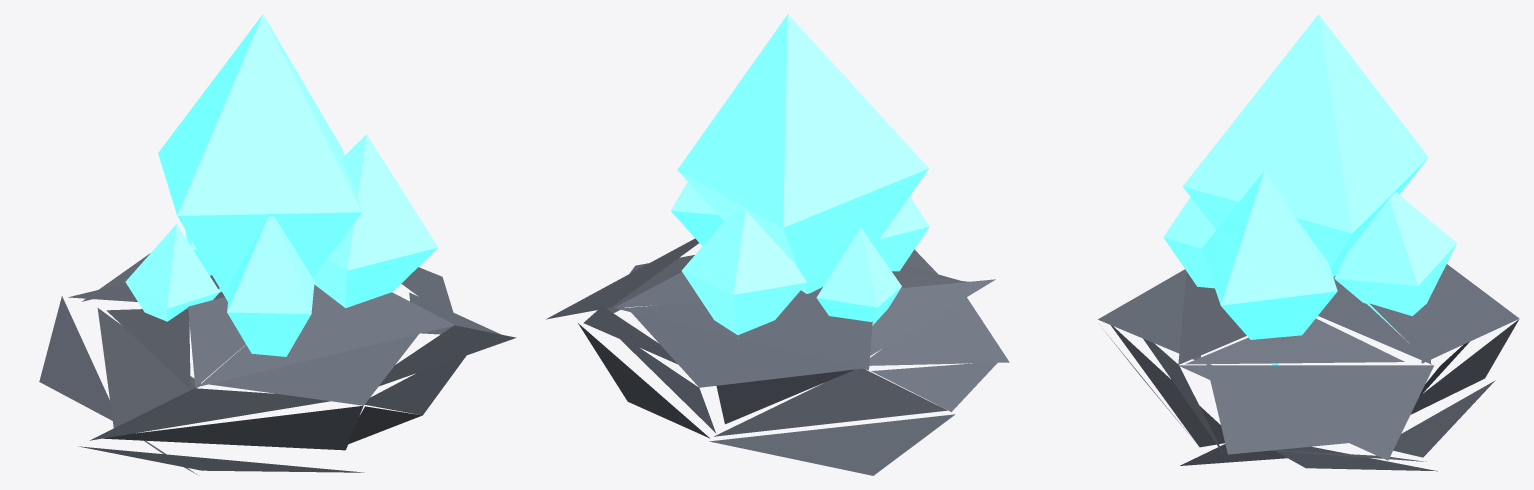
The model's file is crystal.glb.
3 renders of one model, left to right at view 1: azimuth 30°, elevation 25°; view 2: azimuth 150°, elevation 25°; view 3: azimuth 270°, elevation 25°, orthographic. The views are drawn at different scales.
Visible parts, largest first — view 1: RockBase, Spike0, Spike1, Spike4, Spike2; view 2: RockBase, Spike0, Spike3, Spike2, Spike4, Spike1; view 3: RockBase, Spike0, Spike1, Spike3, Spike4.
Boxes of the visible parts, box(x1,y1,x2,y2) form: RockBase: box(39, 253, 516, 474); Spike0: box(158, 14, 361, 301); Spike1: box(313, 134, 438, 308); Spike4: box(227, 216, 314, 356); Spike2: box(125, 224, 219, 324); RockBase: box(546, 238, 1009, 475); Spike0: box(677, 14, 928, 293); Spike3: box(681, 206, 807, 338); Spike2: box(816, 227, 901, 325); Spike4: box(874, 196, 929, 271); Spike1: box(671, 182, 723, 245); RockBase: box(1098, 264, 1519, 471); Spike0: box(1182, 14, 1428, 277); Spike1: box(1202, 171, 1337, 365); Spike3: box(1334, 192, 1456, 330); Spike4: box(1163, 197, 1215, 288).
Bounding box in the file's own units: 4.33 × 3.92 × 3.58.
